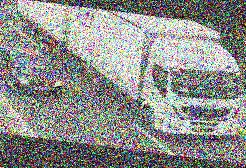truck: (4, 0, 246, 145)
